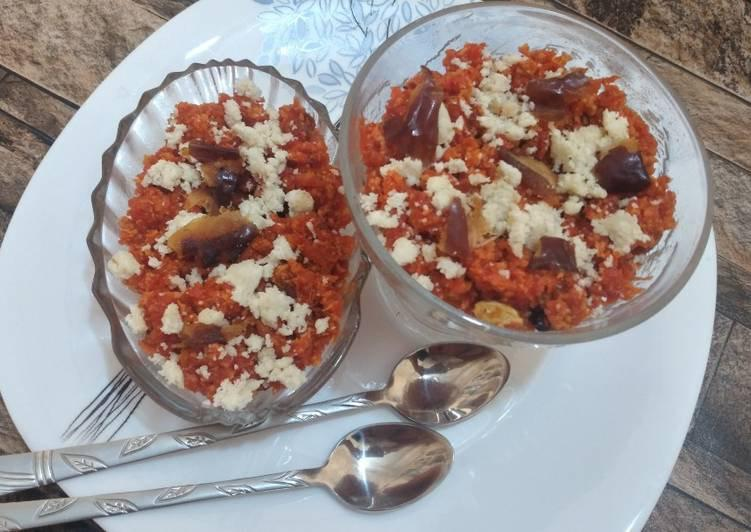Gajar ka halwa: (365, 20, 697, 336), (104, 60, 356, 427)
